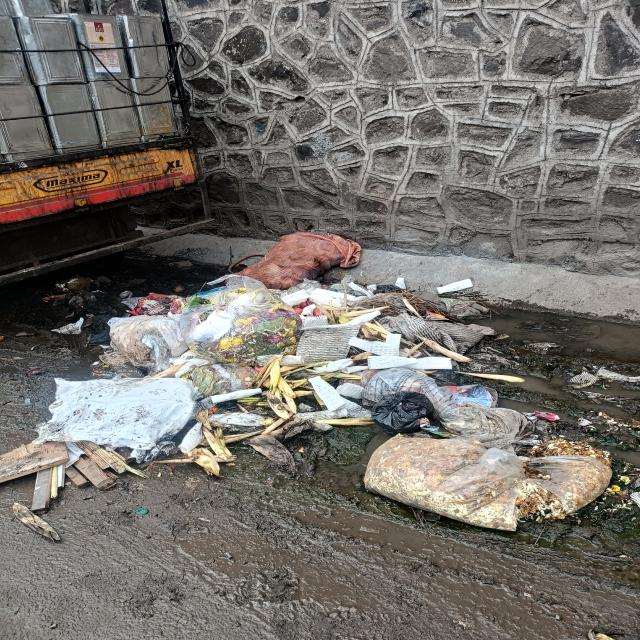garbage: (55, 243, 602, 524)
